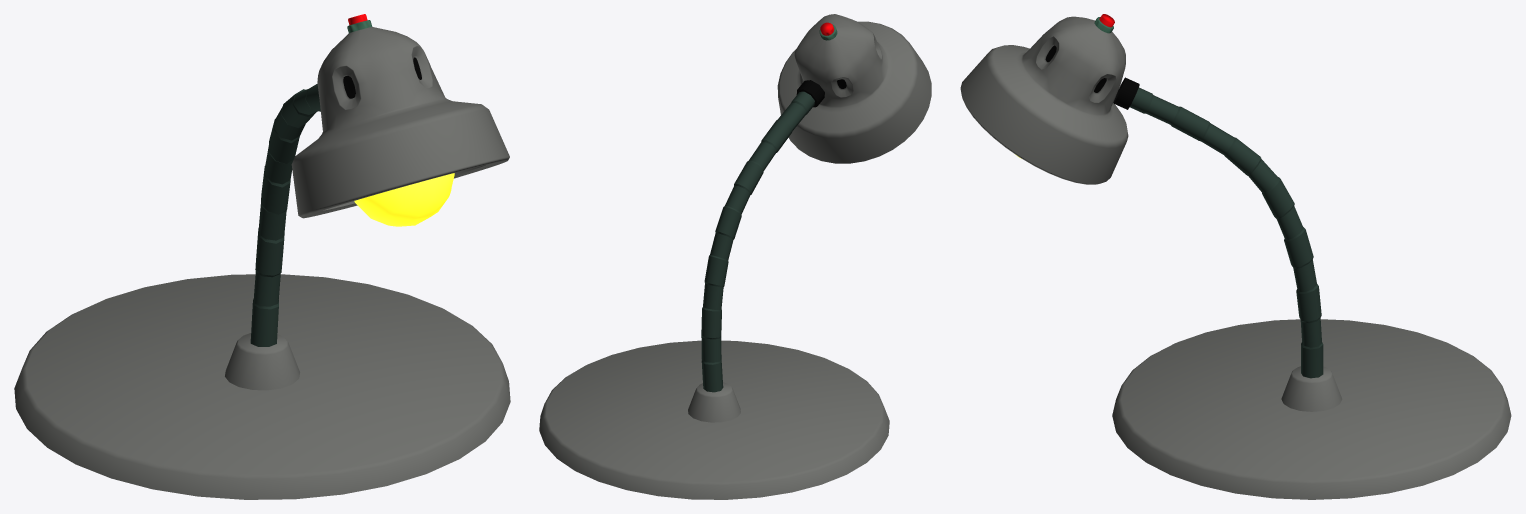
Rendered from DeskLamp_nib_v04.fbx.
The picture shows the model from 3 angles, left to right: view 1: azimuth 30°, elevation 25°; view 2: azimuth 150°, elevation 25°; view 3: azimuth 270°, elevation 25°; orthographic projection. The views are drawn at different scales.
Parts seen in each view (by area): view 1: LampHead; view 2: LampHead; view 3: LampHead.
Part boxes in pixels (x1,y1,x2,y2): LampHead: [14, 14, 510, 499]; LampHead: [539, 14, 931, 499]; LampHead: [960, 14, 1511, 499].
Size of the model in its own units: 35.02 by 37.54 by 48.32.
